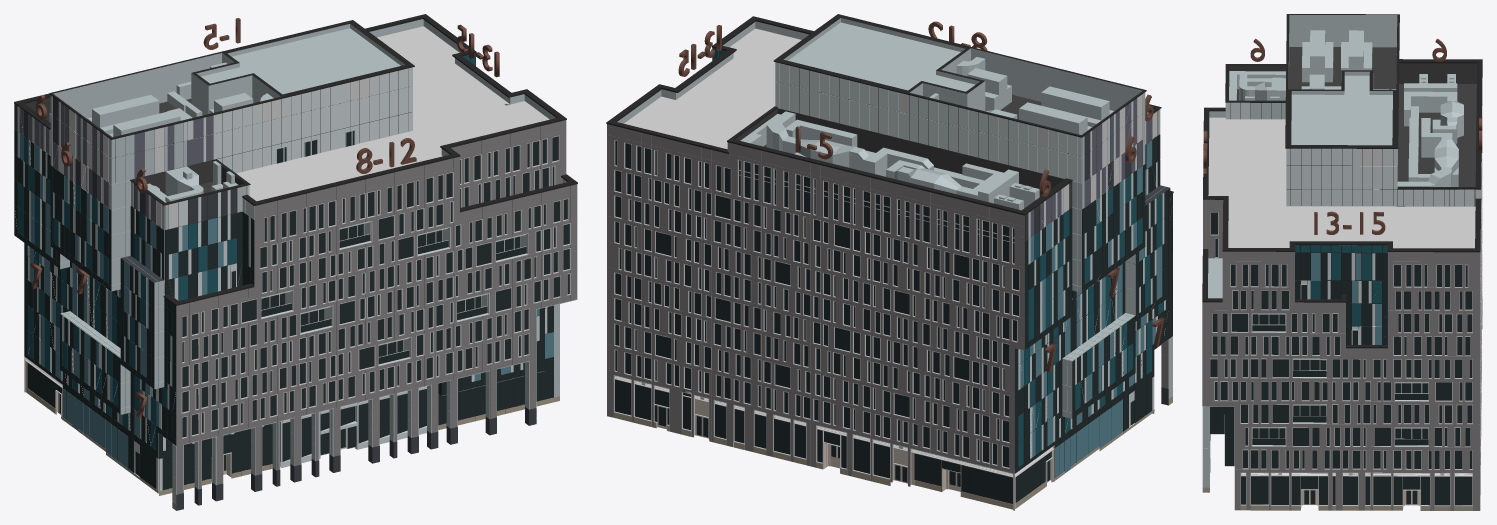
The model's file is S2Handyside.glb.
The picture shows the model from 3 angles, left to right: view 1: azimuth 30°, elevation 25°; view 2: azimuth 150°, elevation 25°; view 3: azimuth 270°, elevation 25°; orthographic projection. The views are drawn at different scales.
Parts seen in each view (by area): view 1: Window_Frame_ID_2, Drop6, Drop8, Drop7, Drop10, Drop9, Drop11, Drop12, Text.007, Text.008; view 2: Window_Frame_ID_2, Drop6, Drop7, Drop3, Drop5, Drop4, Drop1, Drop2, Text.008, Drop8; view 3: Window_Frame_ID_2, Drop14, Drop15, Drop13, Text.008.
Part boxes in pixels (x1,y1,x2,y2): Window_Frame_ID_2: (14, 14, 577, 510); Drop6: (17, 97, 161, 380); Drop8: (162, 186, 256, 439); Drop7: (27, 245, 161, 449); Drop10: (338, 182, 413, 399); Drop9: (260, 201, 334, 418); Drop11: (417, 155, 491, 380); Drop12: (484, 136, 569, 361); Text.007: (356, 138, 416, 173); Text.008: (457, 24, 499, 77); Window_Frame_ID_2: (606, 14, 1173, 510); Drop6: (1028, 94, 1167, 340); Drop7: (1018, 263, 1157, 466); Drop3: (744, 162, 849, 428); Drop5: (933, 209, 1018, 467); Drop4: (854, 189, 929, 447); Drop1: (615, 141, 680, 386); Drop2: (685, 158, 740, 400); Text.008: (678, 25, 721, 76); Drop8: (1153, 173, 1172, 338); Window_Frame_ID_2: (1202, 14, 1482, 510); Drop14: (1292, 245, 1390, 468); Drop15: (1394, 265, 1472, 468); Drop13: (1210, 264, 1288, 468); Text.008: (1314, 211, 1385, 234).
Size of the model in its own units: 121 by 90.76 by 74.12.
